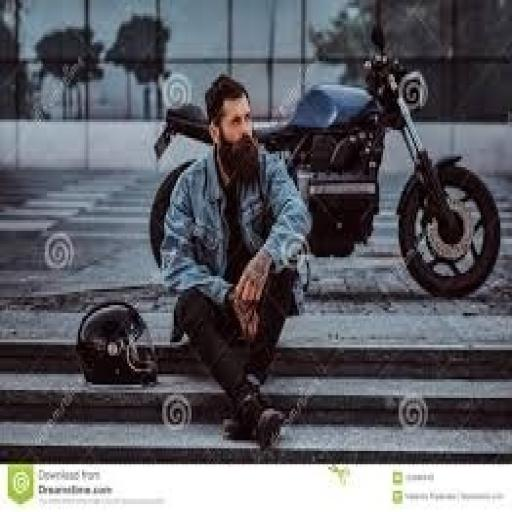sitting: (156, 72, 313, 448)
